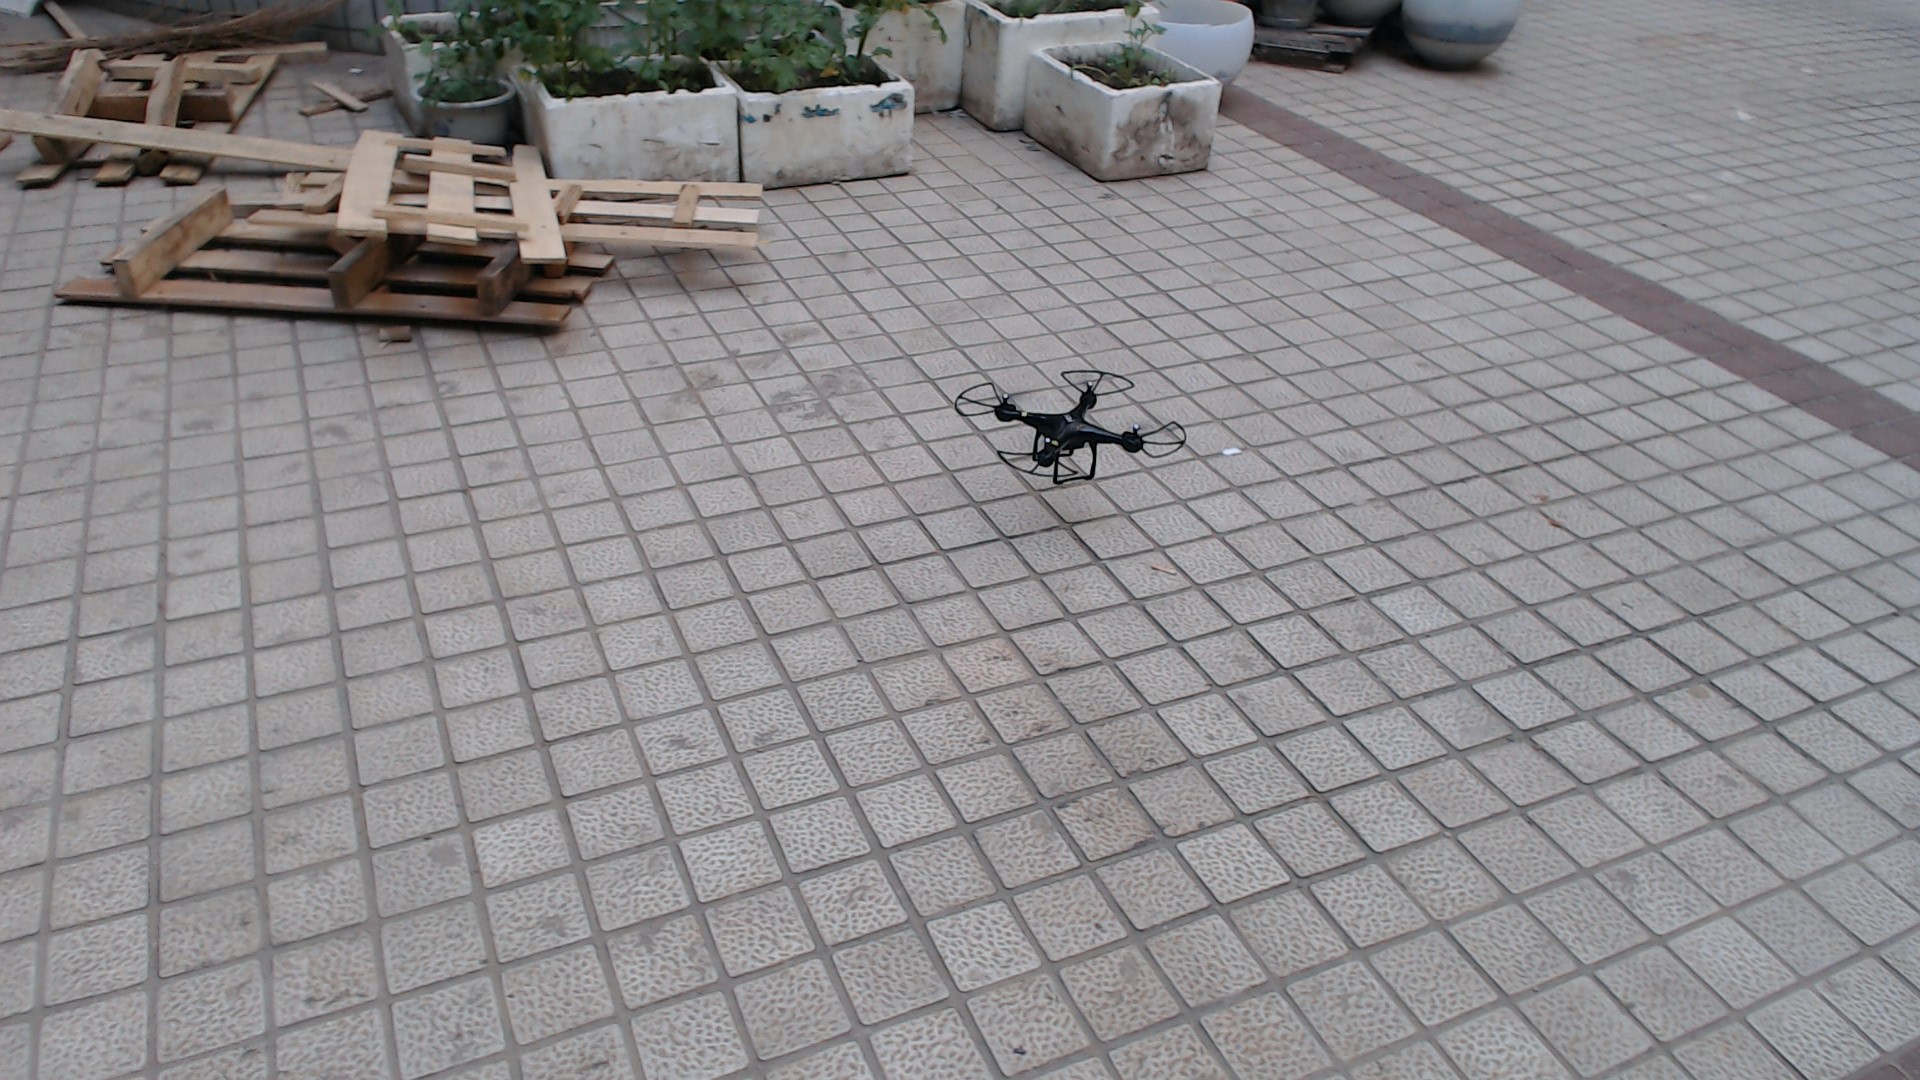drone: (939, 339, 1211, 502)
